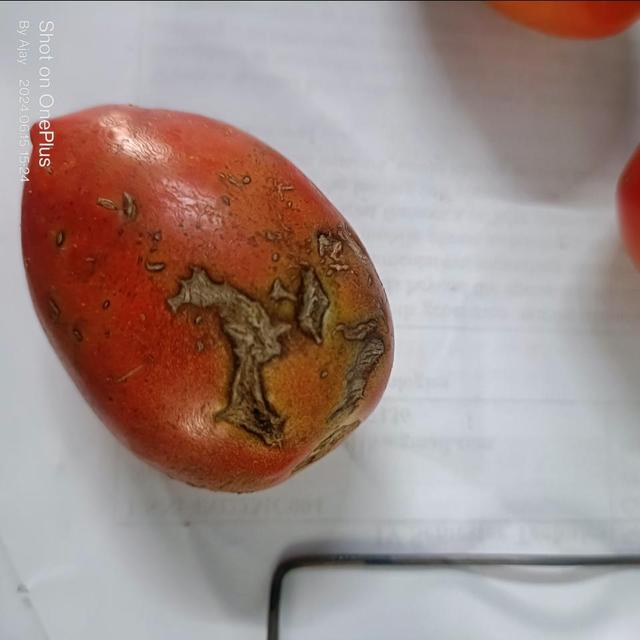Cracking Fruit: (99, 106, 227, 279)
